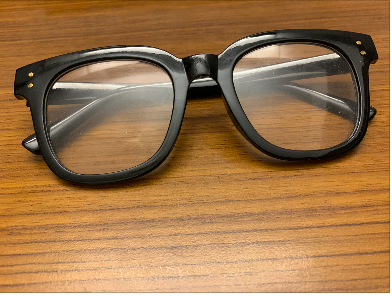object_name: (37, 32, 360, 172)
